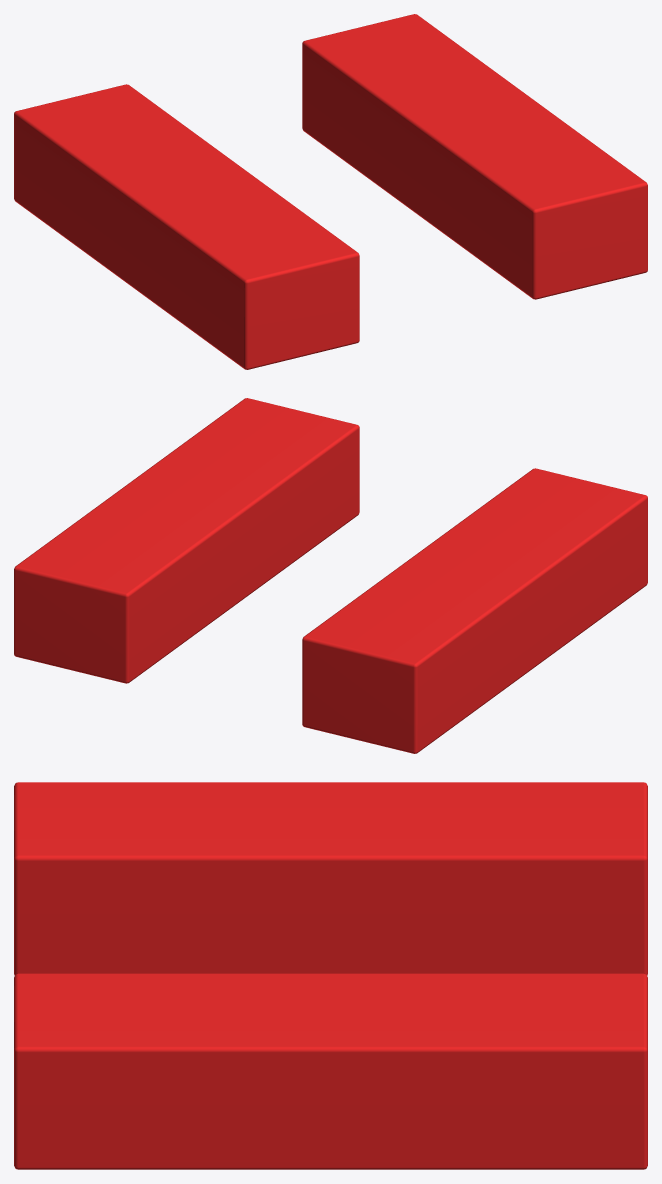
Rendered from GEO_Cylinder_Heads.glb.
The picture shows the model from 3 angles, top to bottom: view 1: azimuth 30°, elevation 25°; view 2: azimuth 150°, elevation 25°; view 3: azimuth 270°, elevation 25°; orthographic projection. The views are drawn at different scales.
Visible parts, largest first — view 1: GEO_Cylinder_Heads; view 2: GEO_Cylinder_Heads; view 3: GEO_Cylinder_Heads.
Boxes of the visible parts, left/top/right/bottom form: GEO_Cylinder_Heads: left=14, top=14, right=647, bottom=369; GEO_Cylinder_Heads: left=14, top=398, right=647, bottom=753; GEO_Cylinder_Heads: left=14, top=782, right=647, bottom=1169.
Size of the model in its own units: 0.56 by 0.12 by 0.56.
